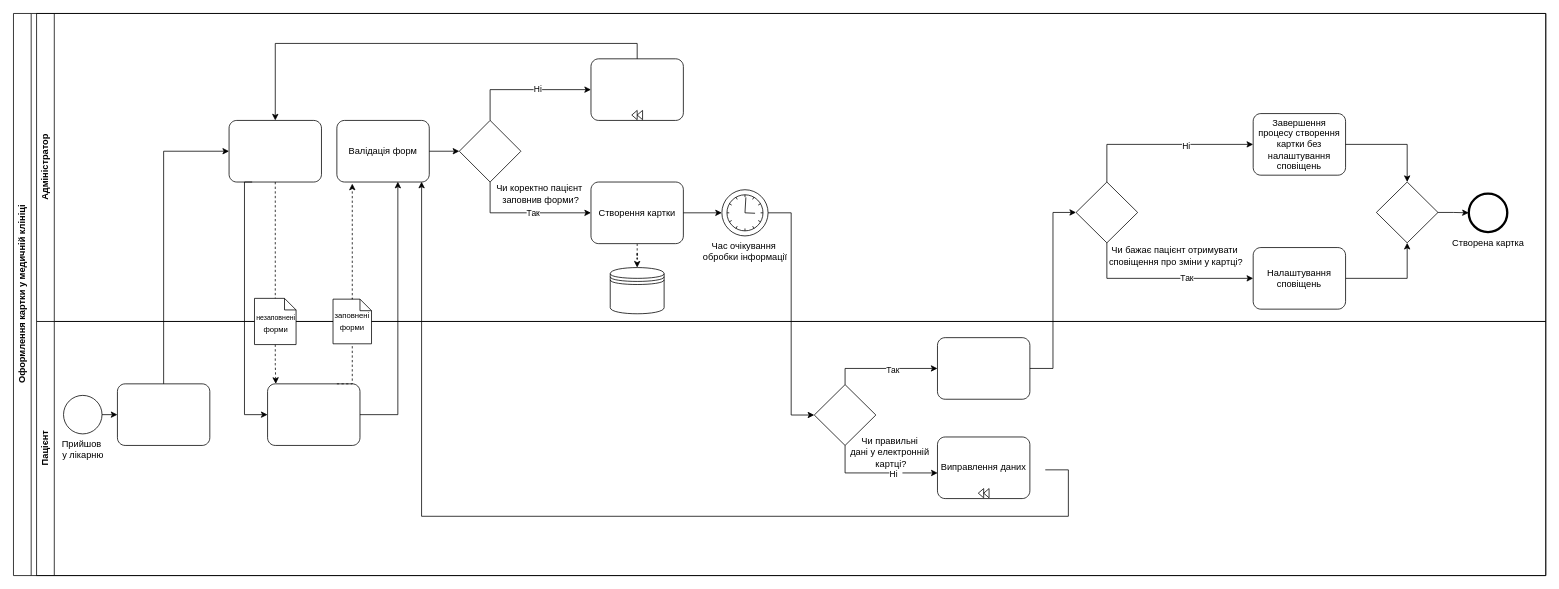
Some shapes in this 1559 by 589 pixel diagram are drawn without their labels. The shapes that lost their labels are listed below. From the top down, each one's box as (x1, y1, x2, y2) in pixels, then its label:
(590, 58, 683, 120): Відправити неправильно заповнені форми у шредер
(228, 120, 321, 182): Відреагувати на звернення
(609, 267, 664, 314): БД лікарні
(937, 337, 1030, 399): Підписати документ про підтвердження достовірності вказаних даних
(117, 383, 210, 445): Звернення у реєстратуру
(267, 383, 360, 445): Заповнення форм
